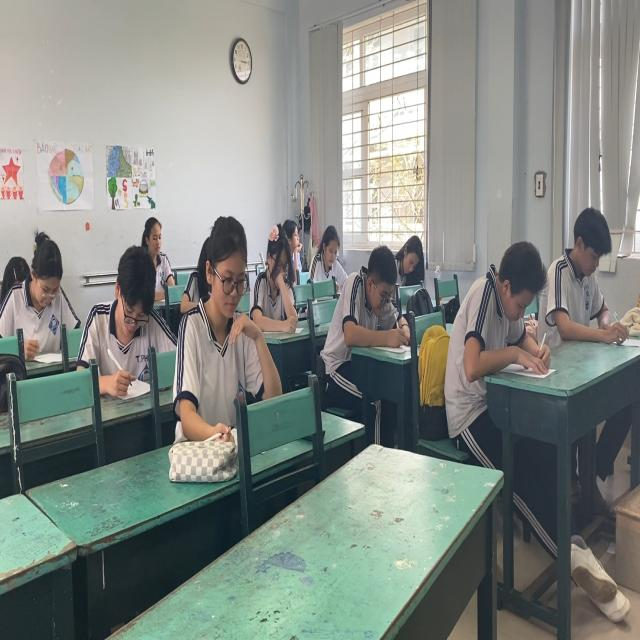not_cheating: (445, 254, 540, 416), (185, 229, 252, 398), (548, 202, 616, 361), (83, 257, 159, 367), (0, 236, 77, 342), (332, 254, 398, 356), (248, 215, 295, 322), (140, 220, 172, 292), (388, 229, 429, 285), (312, 218, 338, 280)
